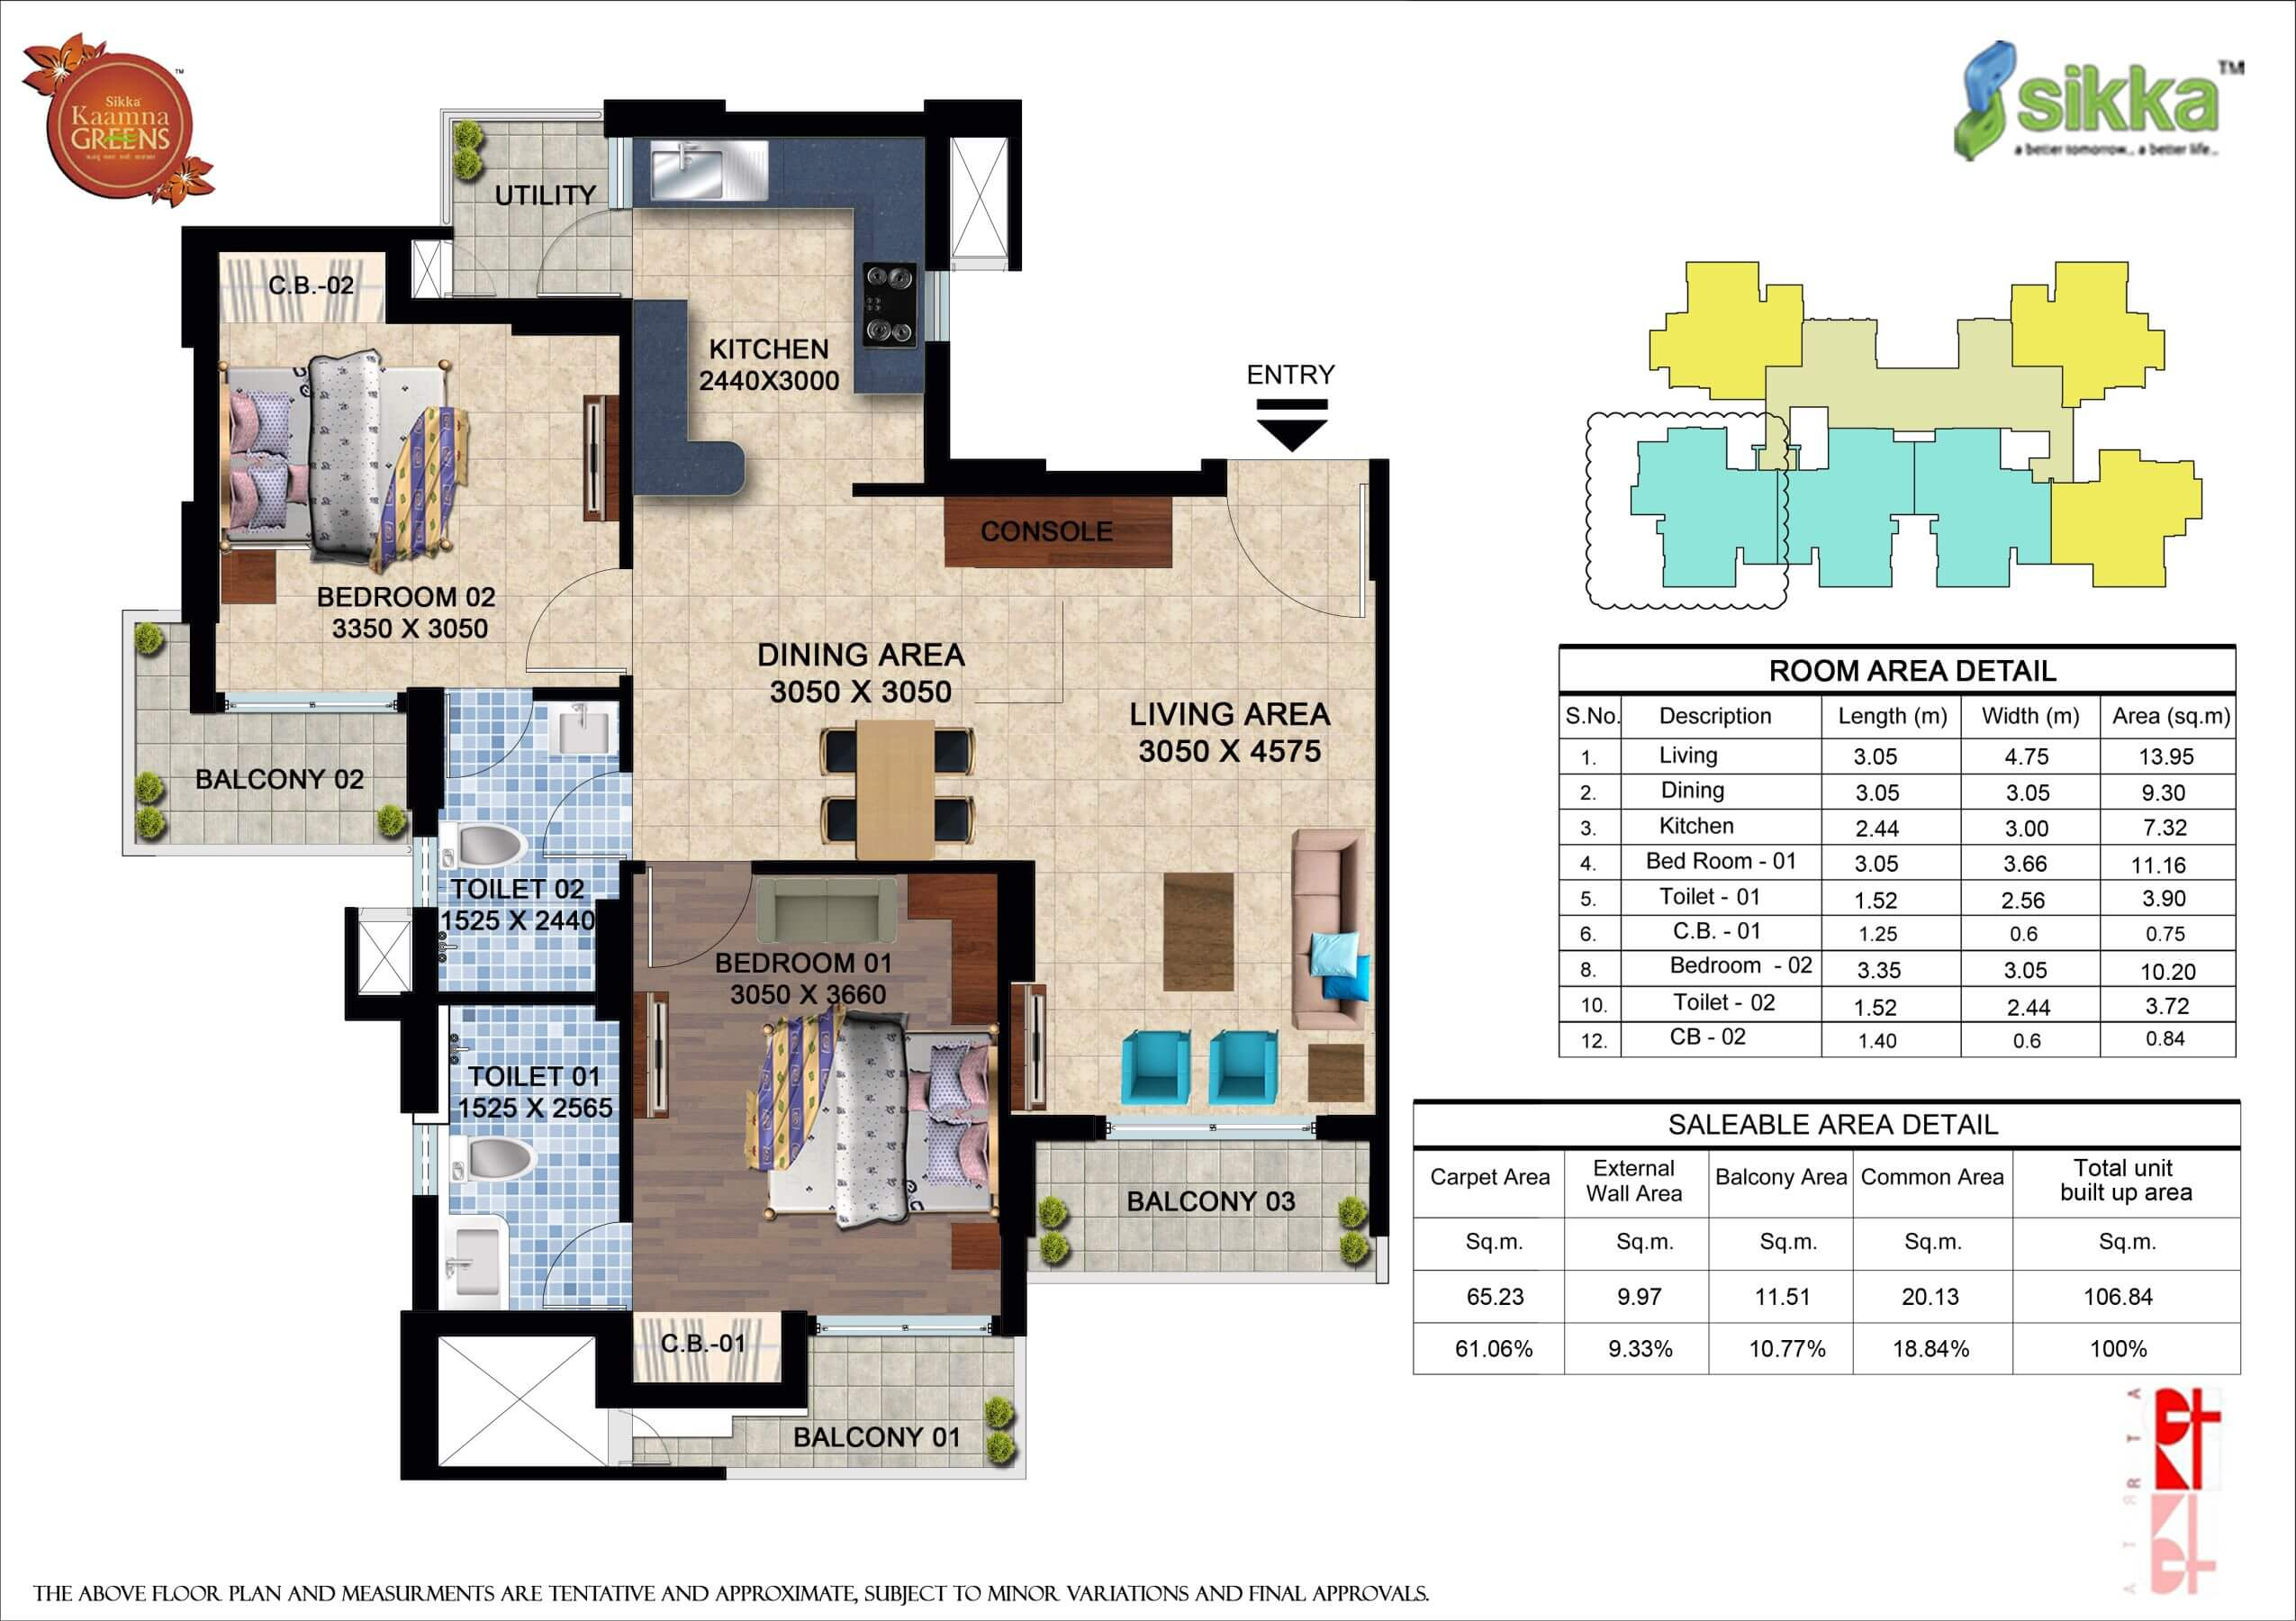door: (1224, 498, 1366, 625), (516, 567, 617, 677), (640, 872, 731, 972), (440, 698, 535, 782), (533, 1226, 628, 1309), (540, 782, 619, 861), (528, 218, 605, 295), (451, 246, 503, 298)
